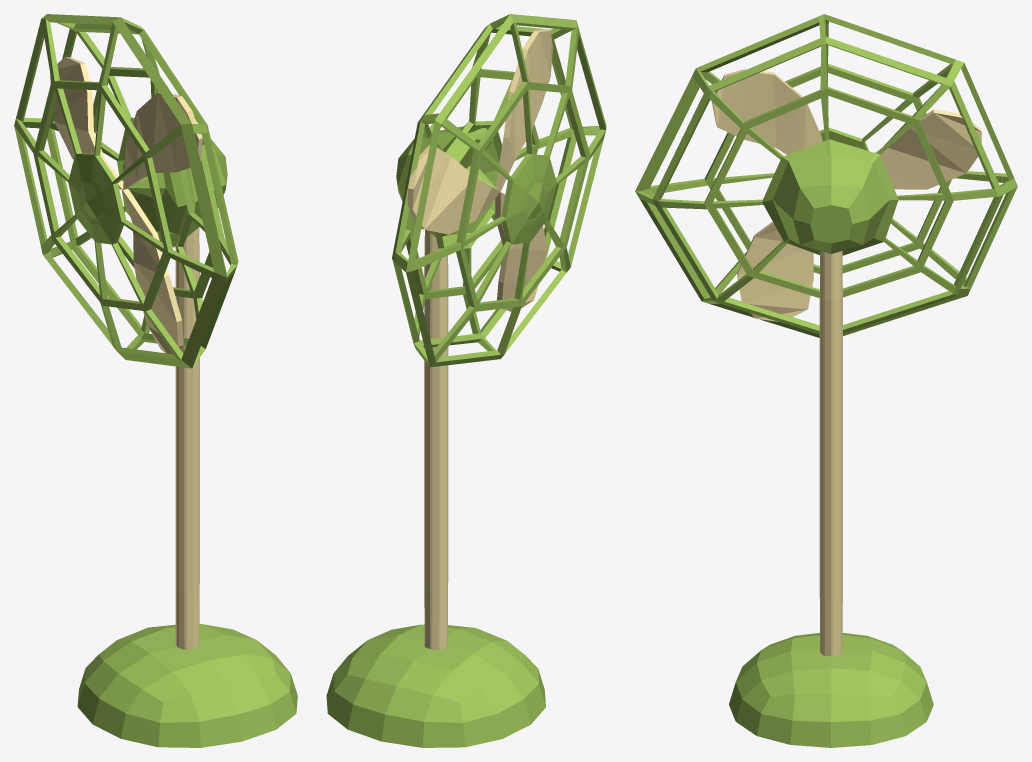
Rendered from Fan.glb.
The picture shows the model from 3 angles, left to right: view 1: azimuth 30°, elevation 25°; view 2: azimuth 150°, elevation 25°; view 3: azimuth 270°, elevation 25°; orthographic projection. The views are drawn at different scales.
Parts seen in each view (by area): view 1: body.001, blade; view 2: body.001, blade; view 3: body.001, blade.
Part boxes in pixels (x1,y1,x2,y2): body.001: (14,14,297,747); blade: (50,56,202,353); body.001: (326,14,606,747); blade: (407,29,552,311); body.001: (635,14,1017,747); blade: (711,69,981,321).
Bounding box in the file's own units: 0.3682 × 1.26 × 0.6618.
1 material, 1 textured.
